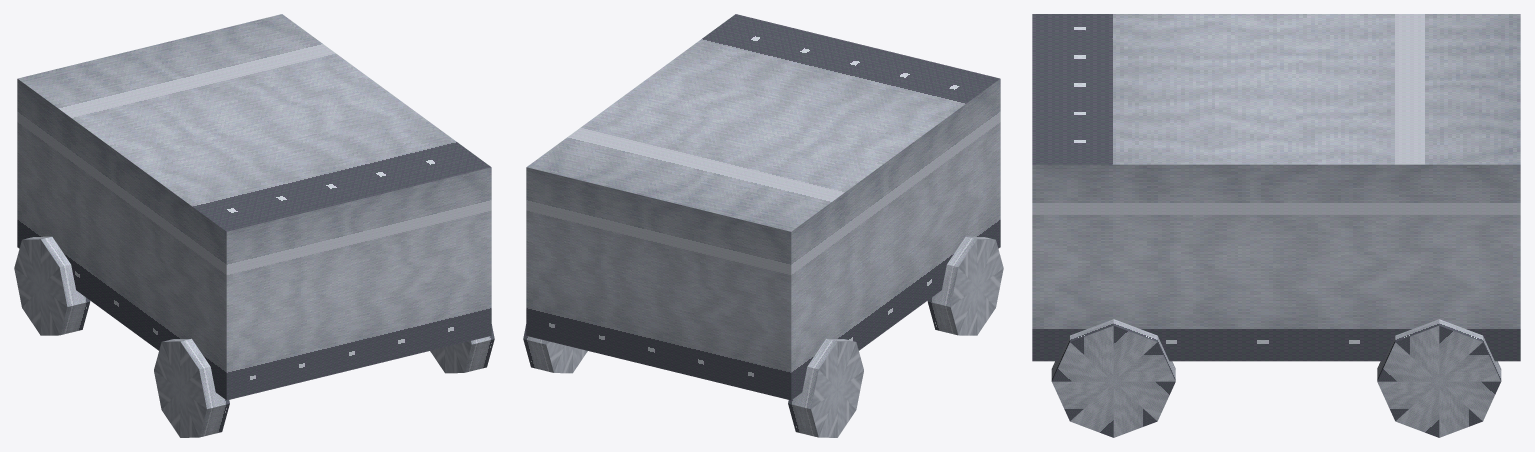
File: carrinho_de_mina.glb
3 renders of one model, left to right at view 1: azimuth 30°, elevation 25°; view 2: azimuth 150°, elevation 25°; view 3: azimuth 270°, elevation 25°, orthographic. The views are drawn at different scales.
Visible parts, largest first — view 1: carrinho_de_mina; view 2: carrinho_de_mina; view 3: carrinho_de_mina.
Boxes of the visible parts, left/top/right/bottom form: carrinho_de_mina: left=14, top=14, right=494, bottom=437; carrinho_de_mina: left=523, top=14, right=1003, bottom=437; carrinho_de_mina: left=1032, top=14, right=1520, bottom=437.
Size of the model in its own units: 1 by 0.76 by 1.26.
1 material, 1 textured.
